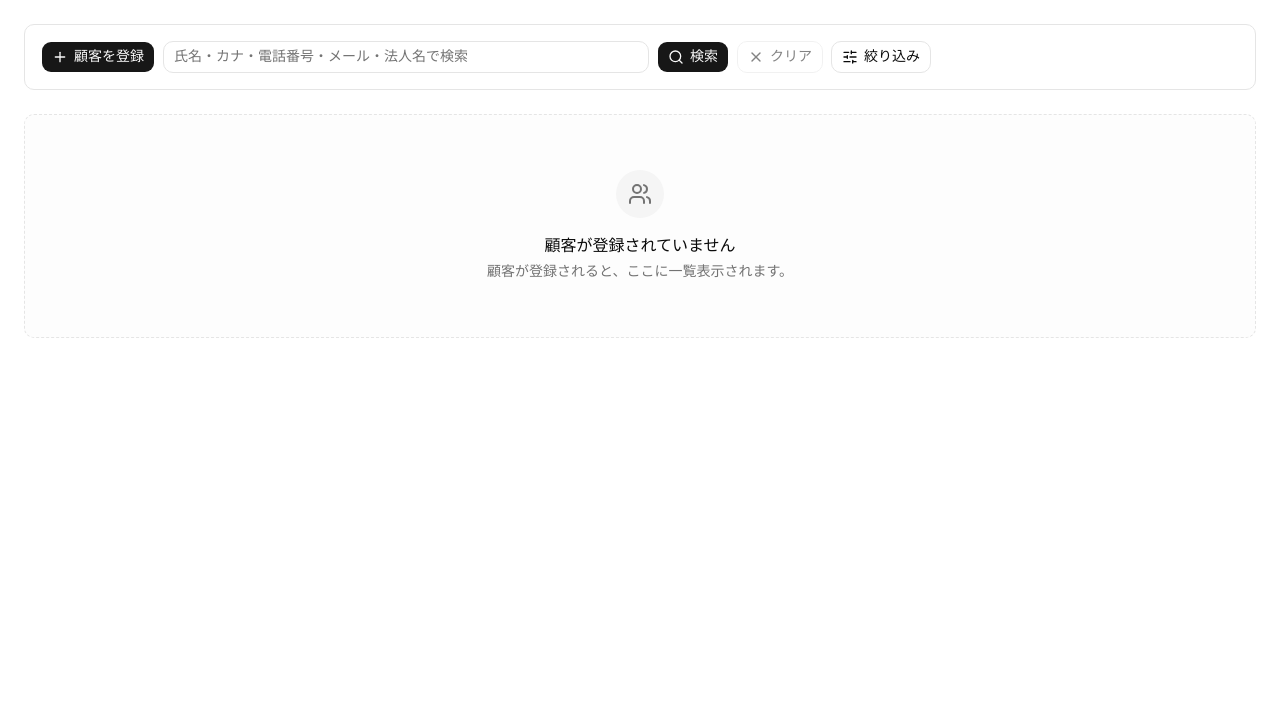
Scenario: CustomerListPageClient › 表示状態と顧客区分で絞り込める
The width and height of the screenshot is (1280, 720).
Expected: the text "顧客が登録されていません" is shown, 544,234 -> 736,258
Click the button "絞り込み".
click(881, 57)  # box 831,41 -> 931,73
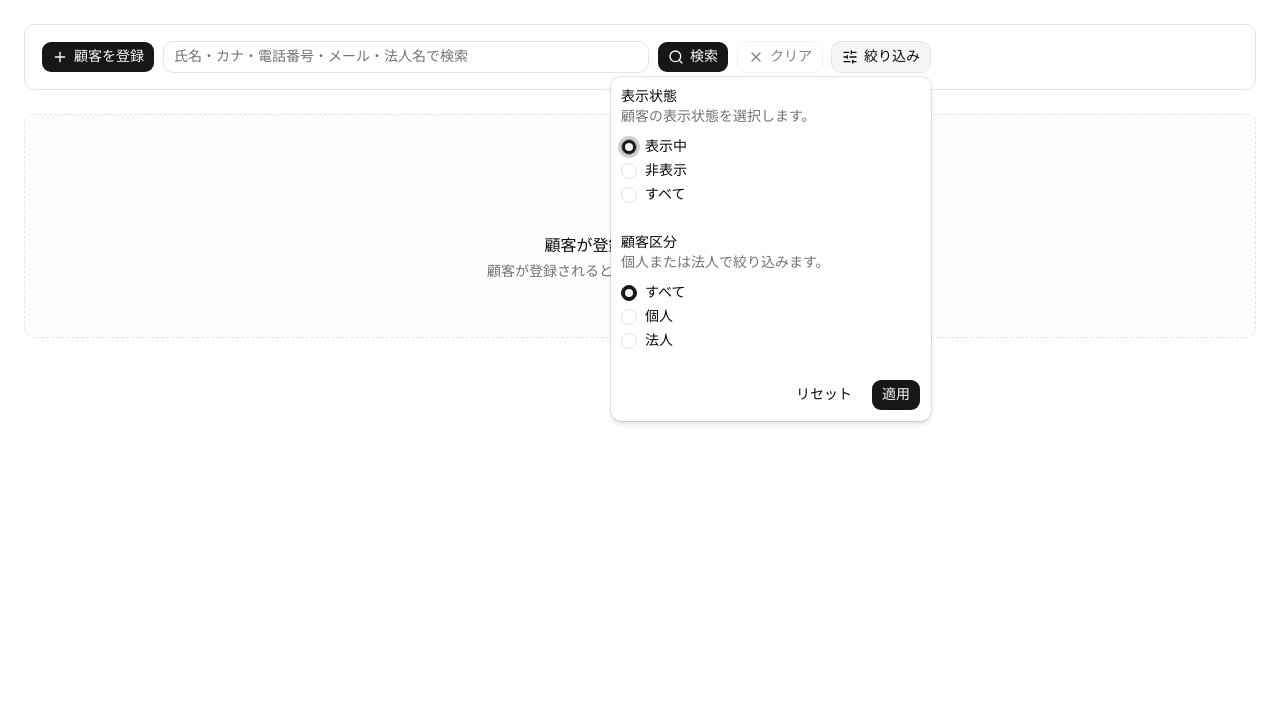
Click the radio button named "非表示" next to "非表示".
click(629, 171)  # box 621,163 -> 637,179
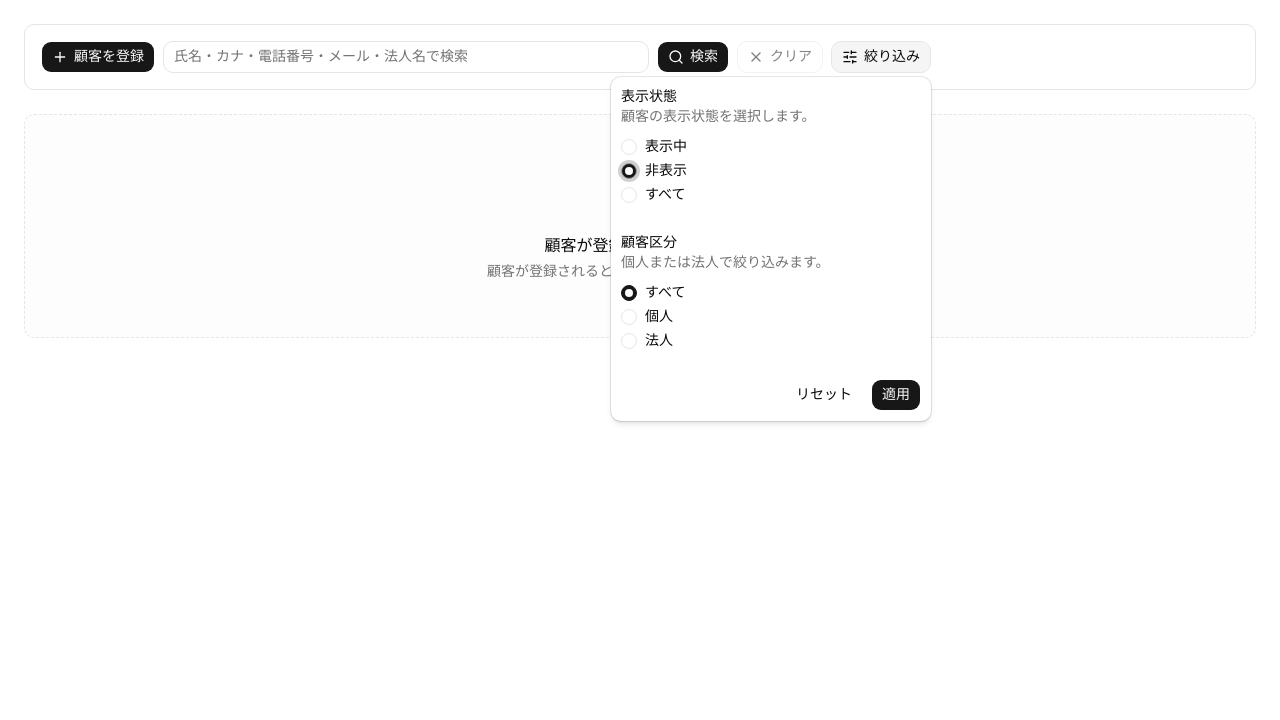
Click the 6th radio button named "法人".
click(629, 341)  # box 621,333 -> 637,349
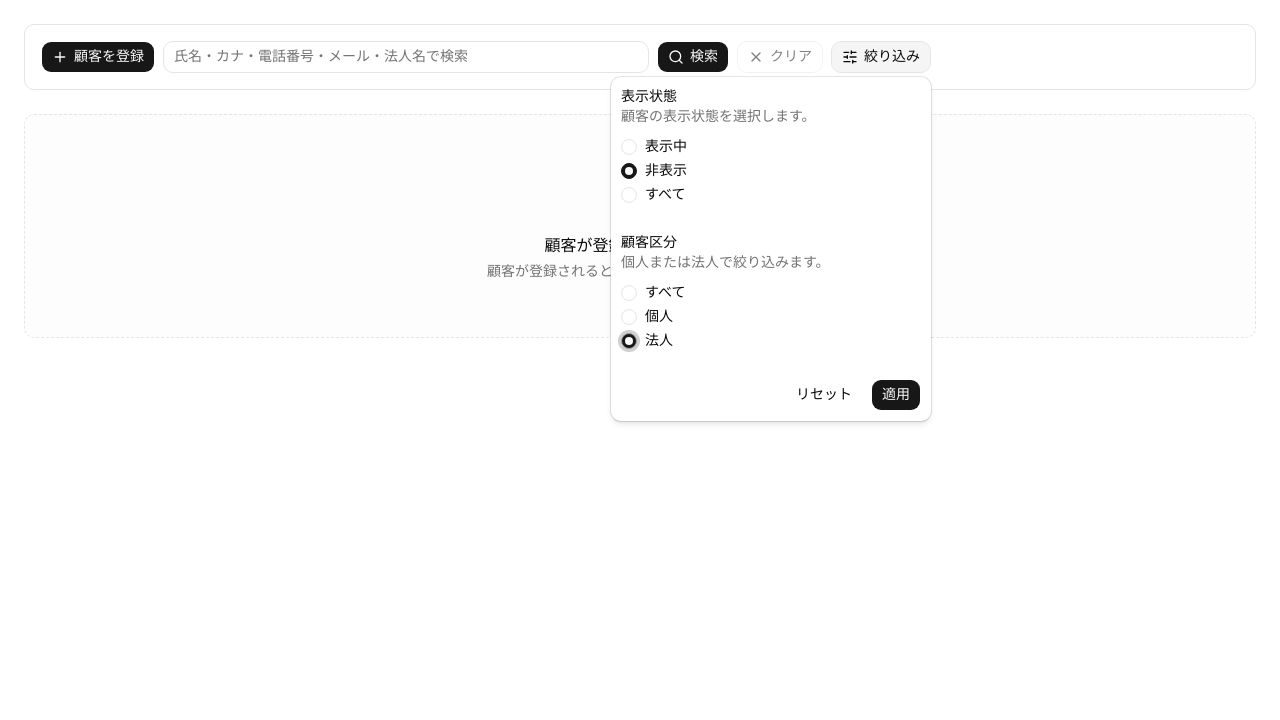
Click the button "適用".
click(896, 395)  # box 871,379 -> 921,411
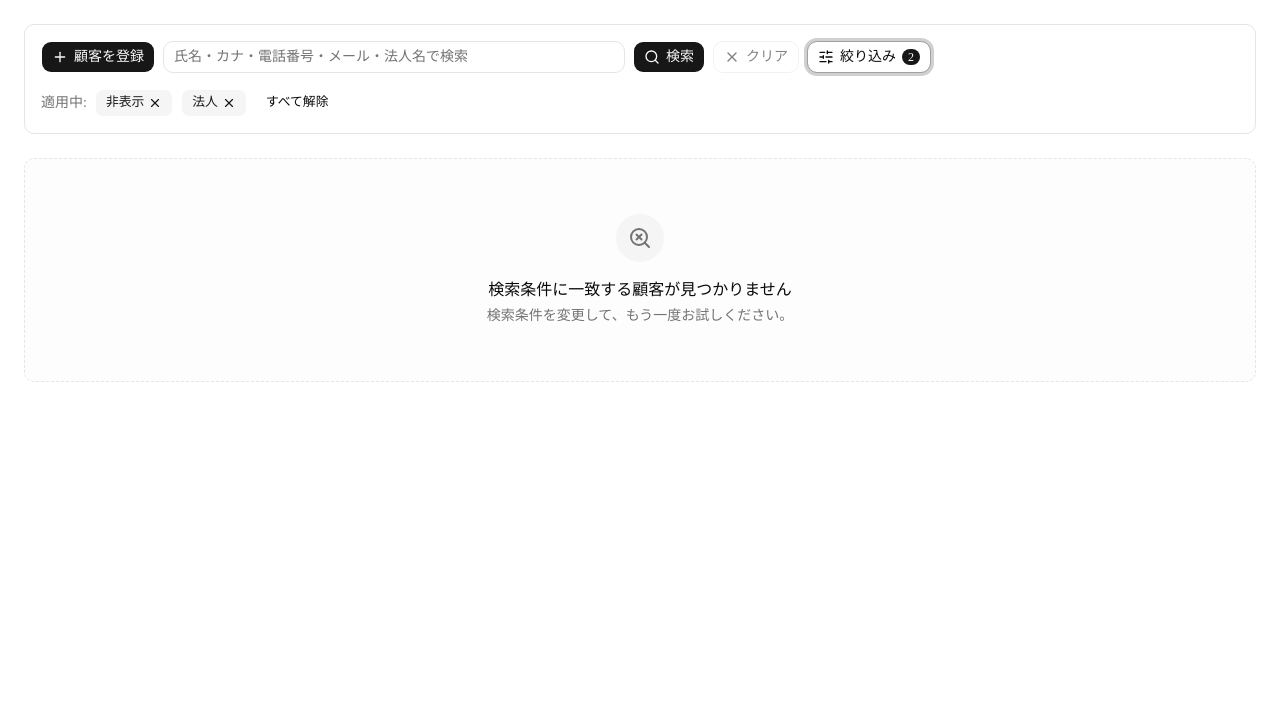
Expected: the text "検索条件に一致する顧客が見つかりません" is shown, 488,278 -> 792,302
